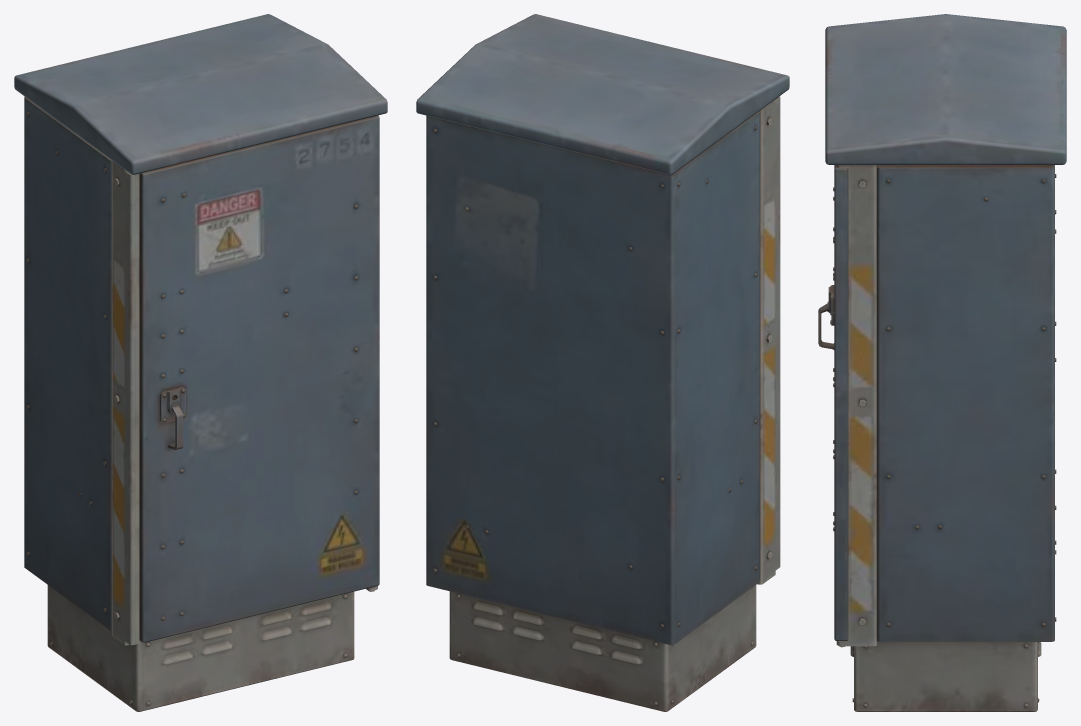
Rendered from utility_box.glb.
3 views of the same model, side by side, from view 1: azimuth 30°, elevation 25°; view 2: azimuth 150°, elevation 25°; view 3: azimuth 270°, elevation 25° (orthographic).
Visible parts, largest first — view 1: utility_box_01_box; view 2: utility_box_01_box; view 3: utility_box_01_box.
Part boxes in pixels (x1,y1,x2,y2): utility_box_01_box: (14,14,387,711); utility_box_01_box: (416,14,789,711); utility_box_01_box: (818,14,1066,711).
Bounding box in the file's own units: 0.52 × 1.12 × 0.4319.
1 material, 1 textured.
